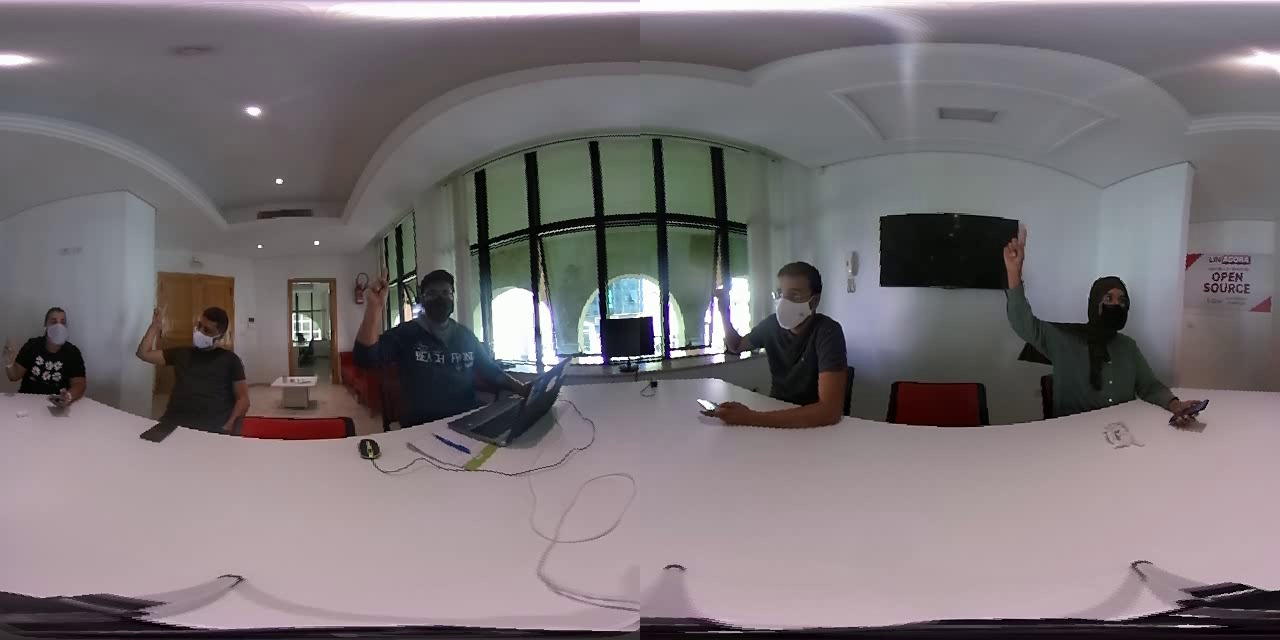person: (991, 208, 1175, 439), (336, 251, 510, 439), (693, 252, 862, 443), (133, 284, 254, 438), (2, 289, 88, 409)
speaking: (997, 210, 1053, 362), (346, 256, 394, 379), (705, 259, 744, 368), (132, 292, 170, 375)
